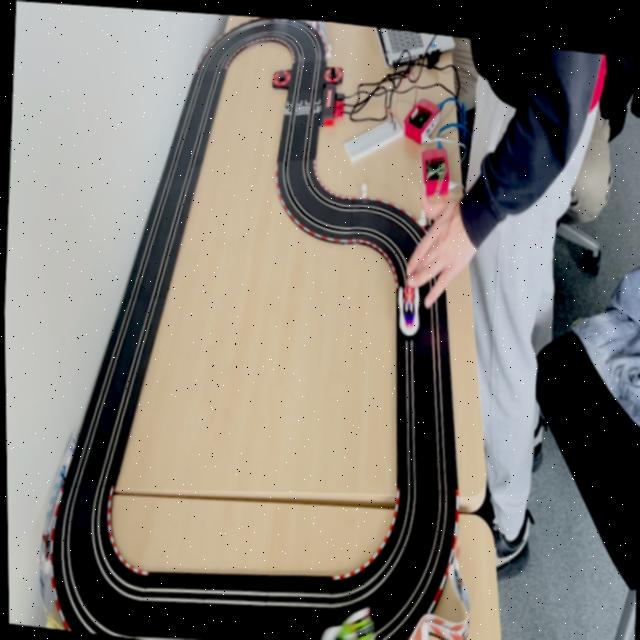mario: (388, 272, 428, 339)
yoshi: (308, 591, 374, 640)
